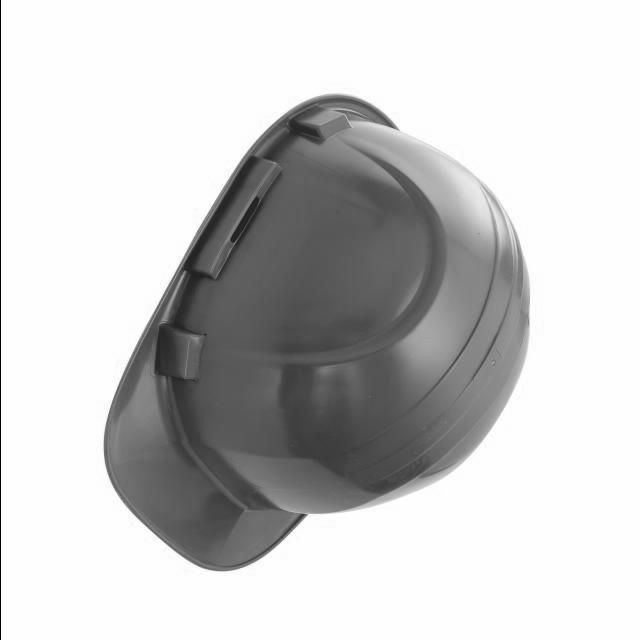construction helmet: (100, 93, 528, 575)
